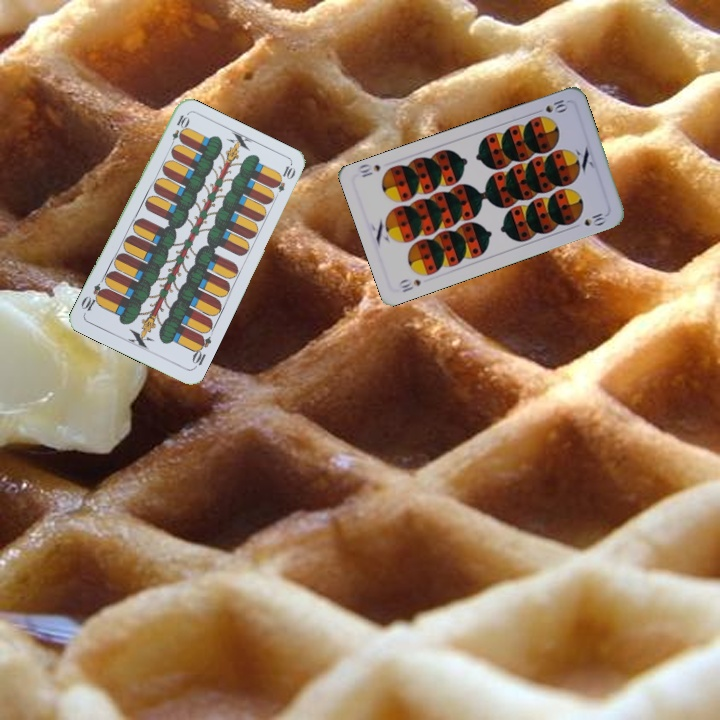E10: (188, 331, 214, 371), (166, 111, 191, 150)
S10: (531, 94, 571, 116), (394, 275, 423, 295)
